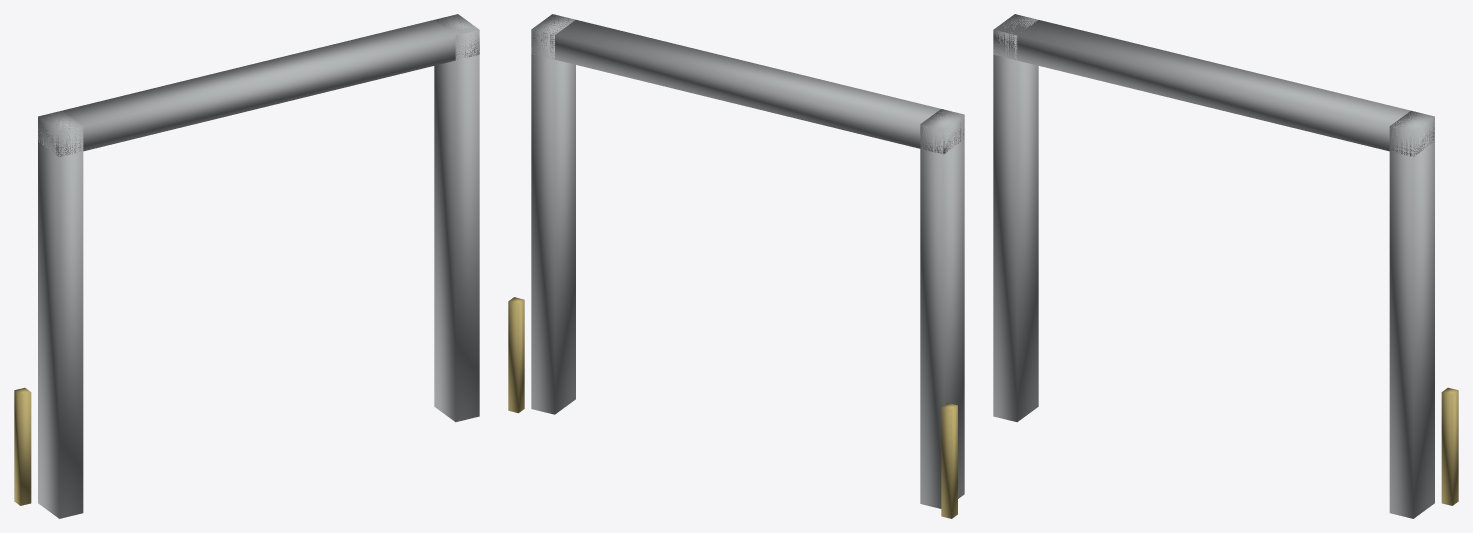
File: atrium_edge_industrial_w280_h260_d28.glb
3 views of the same model, side by side, from view 1: azimuth 30°, elevation 25°; view 2: azimuth 150°, elevation 25°; view 3: azimuth 330°, elevation 25° (orthographic).
Visible parts, largest first — view 1: world; view 2: world; view 3: world.
Boxes of the visible parts, x1,y1,x2,y2 form: world: [14, 14, 479, 518]; world: [508, 14, 964, 518]; world: [993, 14, 1458, 518].
Size of the model in its own units: 3.4 by 2.78 by 0.38.
